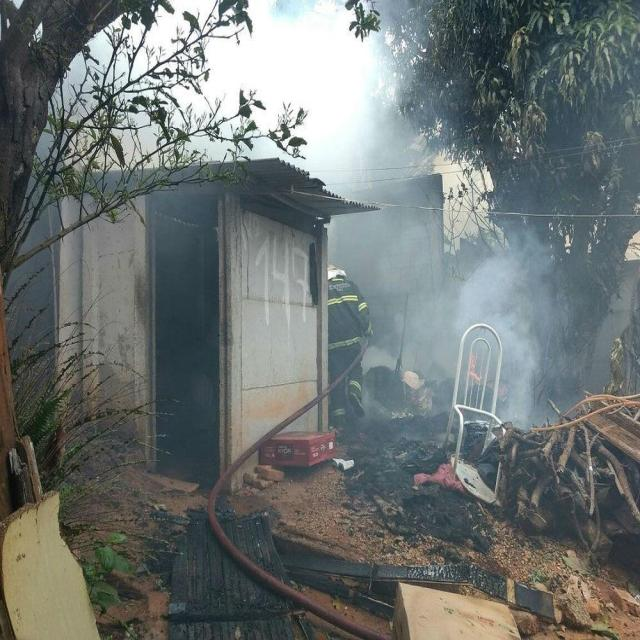Fire: (468, 351, 480, 384)
